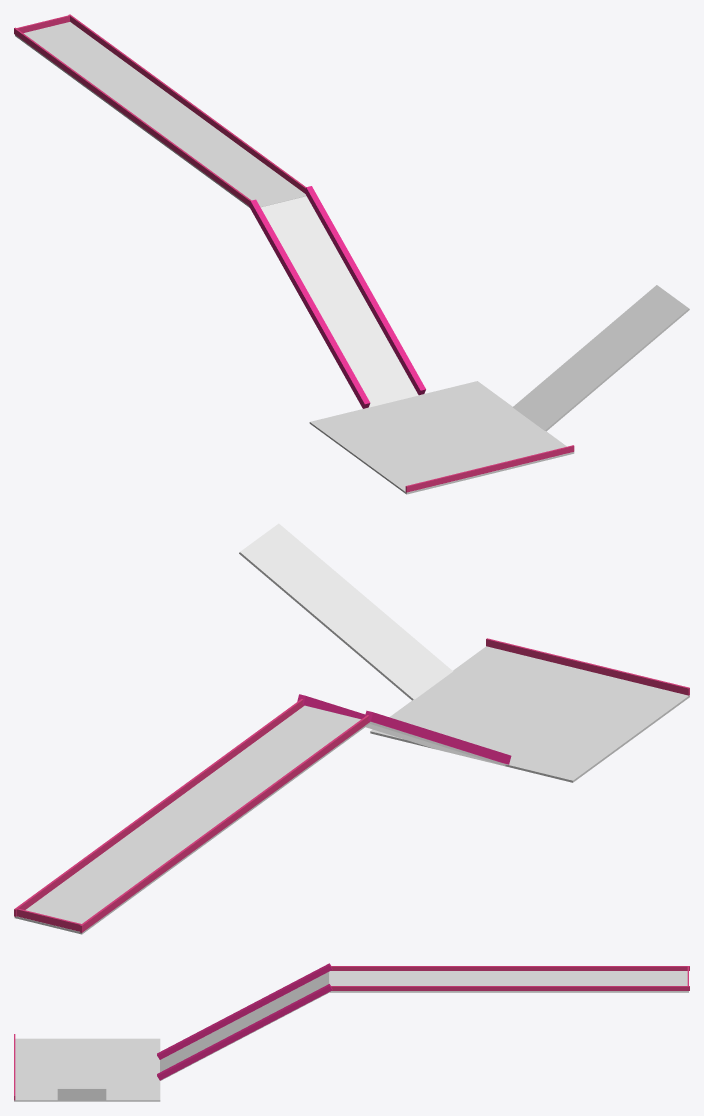
File: Level unfinished.fbx
3 views of the same model, one above another, from view 1: azimuth 30°, elevation 25°; view 2: azimuth 150°, elevation 25°; view 3: azimuth 270°, elevation 25° (orthographic). The views are drawn at different scales.
Visible parts, largest first — view 1: Cube.002, Cube, Cube.001, Cube.009, Cube.007, Cube.008, Cube.004, Cube.006, Cube.003; view 2: Cube.002, Cube, Cube.009, Cube.006, Cube.004, Cube.003, Cube.008, Cube.001; view 3: Cube.002, Cube, Cube.001, Cube.004, Cube.006, Cube.007, Cube.008, Cube.009.
Boxes of the visible parts, x1,y1,x2,y2 form: Cube.002: (309, 381, 574, 494); Cube: (15, 22, 306, 207); Cube.001: (260, 196, 421, 408); Cube.009: (512, 285, 689, 431); Cube.007: (304, 186, 425, 395); Cube.008: (248, 199, 370, 408); Cube.004: (69, 14, 305, 193); Cube.006: (14, 27, 251, 205); Cube.003: (405, 445, 574, 492); Cube.002: (370, 646, 689, 782); Cube: (14, 705, 369, 934); Cube.009: (239, 523, 452, 700); Cube.006: (80, 715, 370, 932); Cube.004: (14, 699, 304, 916); Cube.003: (486, 638, 689, 695); Cube.008: (365, 710, 511, 764); Cube.001: (305, 705, 505, 766); Cube.002: (14, 1038, 160, 1101); Cube: (329, 971, 688, 992); Cube.001: (160, 972, 329, 1080); Cube.004: (331, 986, 689, 990); Cube.006: (331, 966, 689, 970); Cube.007: (157, 984, 332, 1080); Cube.008: (157, 963, 332, 1059); Cube.009: (57, 1087, 106, 1101).
Bounding box in the file's own units: 1116 × 437 × 2774.
